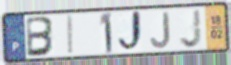1: (99, 11, 115, 55)
B: (25, 15, 56, 59)
I: (67, 14, 75, 56)
J: (117, 9, 145, 55), (178, 7, 203, 49), (149, 11, 172, 50)
